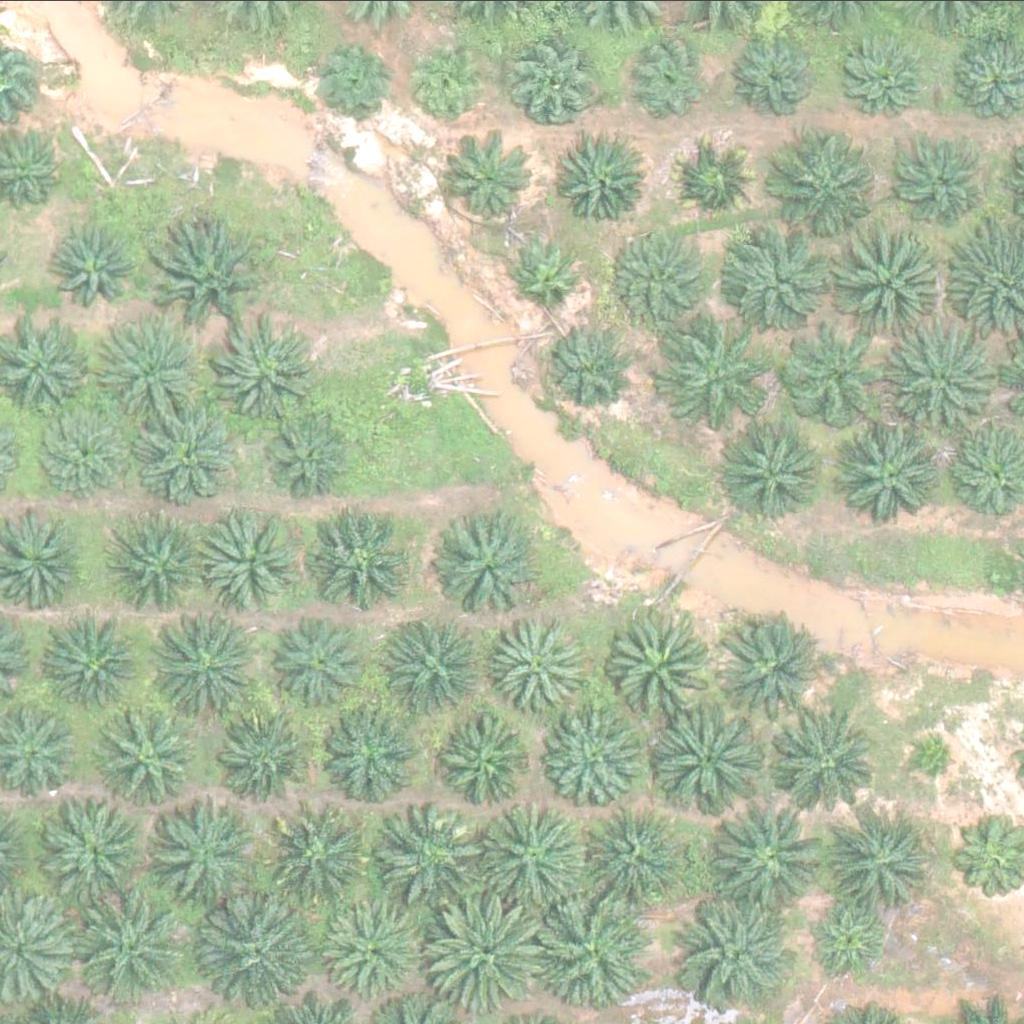Kelapa_Sawit: (77, 894, 191, 1007), (828, 223, 941, 336), (713, 222, 826, 335), (888, 325, 1001, 438), (653, 706, 766, 819), (770, 709, 883, 822), (534, 891, 647, 1004), (682, 894, 795, 1007), (153, 221, 266, 334), (370, 801, 483, 914), (203, 894, 316, 1007), (712, 803, 826, 915), (471, 799, 585, 911), (423, 897, 537, 1009), (772, 127, 885, 239), (605, 611, 718, 723), (713, 614, 826, 726), (822, 798, 935, 910), (90, 319, 203, 431), (148, 607, 261, 719), (670, 334, 771, 434), (782, 328, 883, 428), (844, 422, 945, 522), (718, 416, 819, 516), (442, 519, 543, 619), (491, 612, 592, 712), (436, 714, 537, 814), (544, 707, 645, 807), (214, 325, 315, 425), (131, 400, 232, 500), (200, 516, 301, 616), (112, 516, 213, 616), (44, 612, 145, 712), (324, 898, 425, 998), (605, 227, 705, 327), (393, 614, 493, 714), (582, 800, 682, 900), (310, 510, 410, 610), (269, 614, 369, 714), (314, 702, 414, 802), (94, 710, 194, 810), (210, 705, 310, 805), (43, 799, 143, 899), (160, 799, 260, 899), (273, 807, 373, 907), (36, 407, 125, 495), (808, 895, 896, 983), (408, 37, 496, 125), (626, 33, 714, 121), (738, 32, 826, 120), (843, 32, 931, 120), (546, 324, 634, 412), (509, 36, 597, 123), (450, 134, 538, 221), (555, 138, 643, 225), (673, 138, 761, 225), (894, 141, 982, 228), (309, 36, 397, 123), (55, 221, 143, 308), (262, 412, 350, 499), (512, 234, 588, 309), (916, 731, 966, 781)
